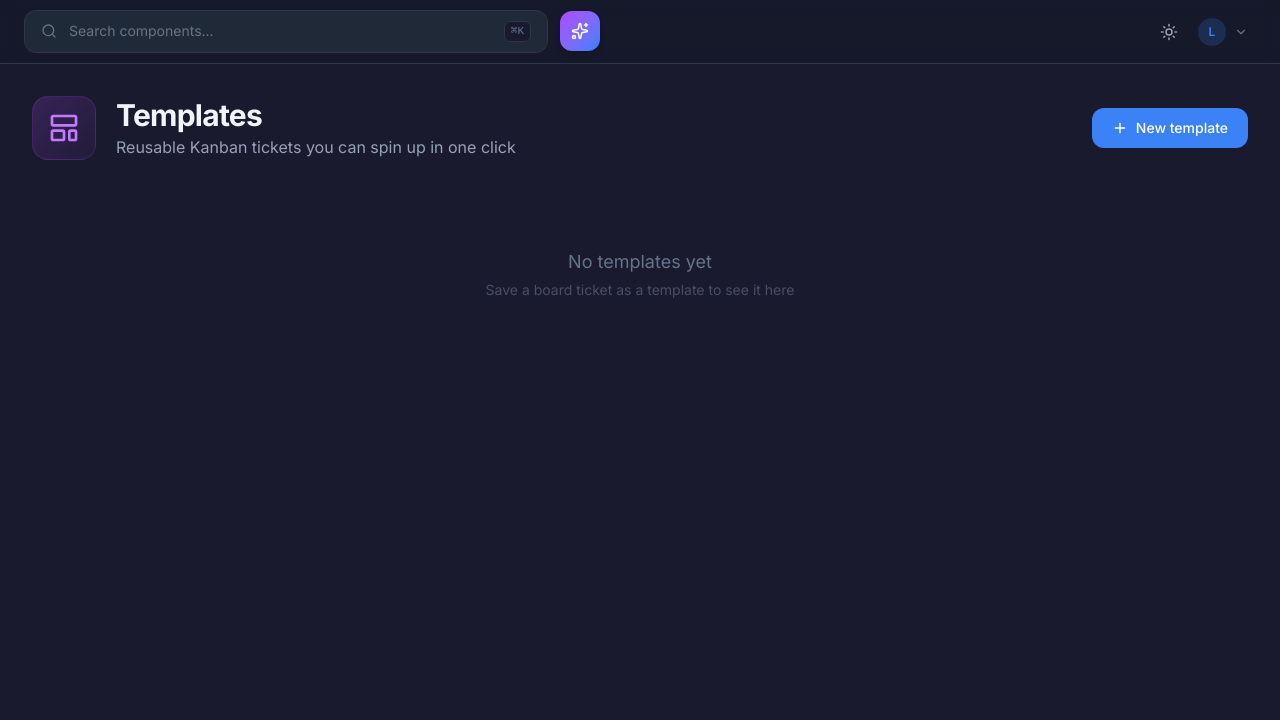
Scenario: TemplatesPage › + New template flow › opens the create modal when the "+ New template" button is clicked
Step 1. Click the button "New template" → x=1170, y=128, box [1092,108,1248,148]
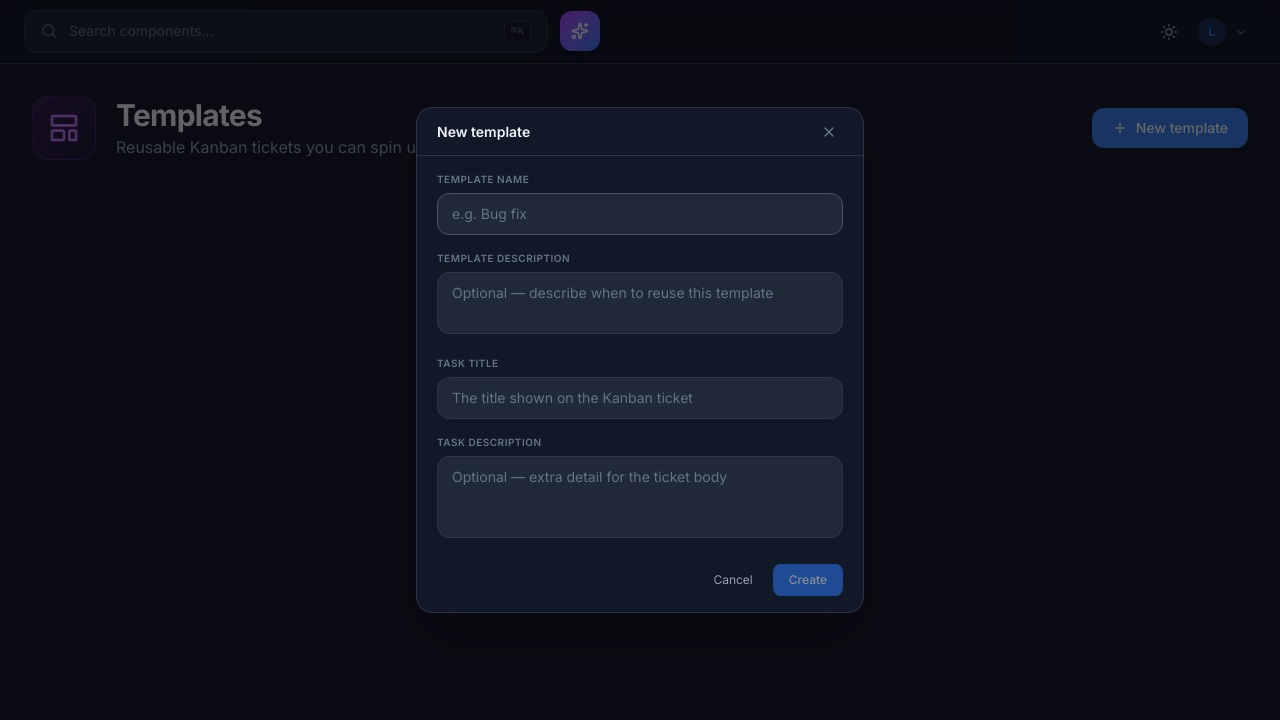
Expected: the heading "New template" is shown, [437,122,530,142]
Expected: the field labelled "Template name" is shown, [437,193,843,235]
Expected: the field labelled "Task title" is shown, [437,377,843,419]
